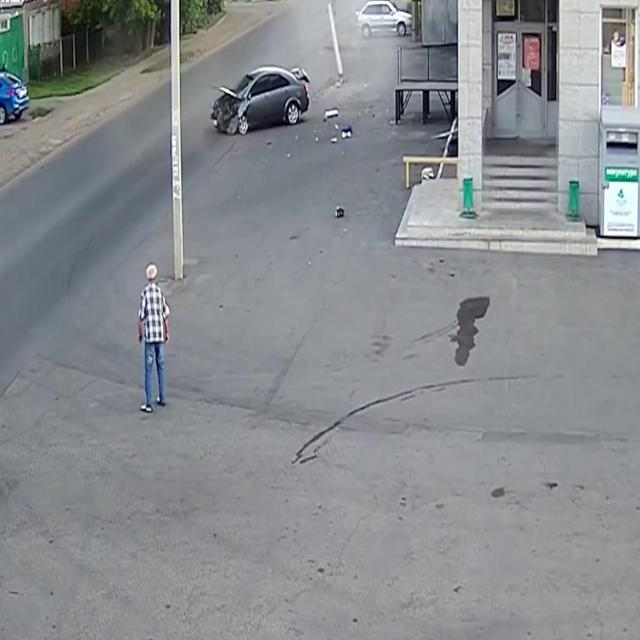accident: (206, 50, 358, 164)
